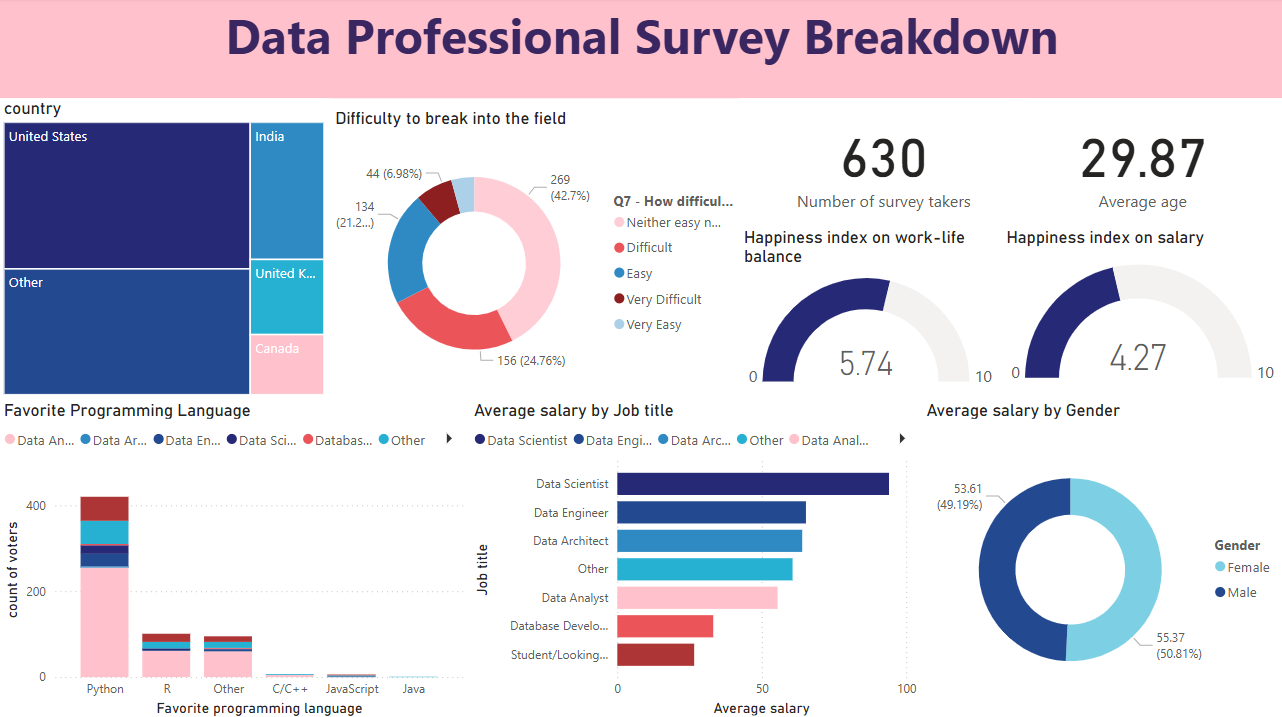

Layout of this report page (visuals, bound fields, positions):
{"tool":"powerbi","page":{"name":"Page 1","canvas":[1280,720],"ordinal":0},"visuals":[{"type":"textbox","box":[0,0,1280,101],"z":0},{"type":"card","fields":{"Values":["Count(Data Professional Survey.Unique ID)"]},"box":[736.3,100.9,288.5,127.4],"z":1000},{"type":"card","fields":{"Values":["Avg(Data Professional Survey.Q10 - Current Age)"]},"box":[998.2,100.9,281.4,127.4],"z":2000},{"type":"barChart","title":"Average salary by Job title","fields":{"Y":["Avg(Data Professional Survey.Average salary)"],"Category":["Data Professional Survey.Q1 - Which Title Best Fits your Current Role?.1"],"Series":["Data Professional Survey.Q1 - Which Title Best Fits your Current Role?.1"]},"box":[467.7,400.6,450.3,319.7],"z":3000},{"type":"columnChart","title":"Favorite Programming Language","fields":{"Category":["Data Professional Survey.Q5 - Favorite Programming Language.1.1"],"Y":["CountNonNull(Data Professional Survey.Unique ID)"],"Series":["Data Professional Survey.Q1 - Which Title Best Fits your Current Role?.1"]},"box":[0,400.7,467.3,320],"z":4000},{"type":"treemap","title":"country ","fields":{"Group":["Data Professional Survey.Q11 - Which Country do you live in?.1"],"Values":["CountNonNull(Data Professional Survey.Q11 - Which Country do you live in?.1)"]},"box":[0,100.5,328.5,300.2],"z":5000},{"type":"gauge","title":"Happiness index on work-life balance","fields":{"Y":["Avg(Data Professional Survey.Q6 - How Happy are you in your Current Position with the following? (Work/Life Balance))"],"MinValue":["Min(Data Professional Survey.Q6 - How Happy are you in your Current Position with the following? (Work/Life Balance))1"],"MaxValue":["Max(Data Professional Survey.Q6 - How Happy are you in your Current Position with the following? (Work/Life Balance))2"]},"box":[736.3,228.3,262,171.7],"z":6000},{"type":"gauge","title":"Happiness index on salary","fields":{"Y":["Avg(Data Professional Survey.Q6 - How Happy are you in your Current Position with the following? (Salary))"],"MinValue":["Min(Data Professional Survey.Q6 - How Happy are you in your Current Position with the following? (Salary))"],"MaxValue":["Max(Data Professional Survey.Q6 - How Happy are you in your Current Position with the following? (Salary))"]},"box":[998.2,228.3,281.4,173.5],"z":7000},{"type":"donutChart","title":"Average salary by Gender","fields":{"Category":["Data Professional Survey.Q9 - Male/Female?"],"Y":["Avg(Data Professional Survey.Average salary)"]},"box":[917.5,400.7,362.5,320],"z":8000},{"type":"donutChart","title":"Difficulty to break into the field","fields":{"Category":["Data Professional Survey.Q7 - How difficult was it for you to break into Data?"],"Y":["CountNonNull(Data Professional Survey.Q7 - How difficult was it for you to break into Data?)"]},"box":[329.6,110.7,406.8,289.8],"z":9000}]}

Visuals, with their boxes in screenshot pixels (x1, y1, x2, y2), scaled from the page's 1280x720 canvas onto the 1282x717 screenshot:
textbox: [0,0,1281,101]
card - Count(Data Professional Survey.Unique ID): [737,100,1026,227]
card - Avg(Data Professional Survey.Q10 - Current Age): [1000,100,1281,227]
"Average salary by Job title" barChart: [468,399,919,716]
"Favorite Programming Language" columnChart: [0,399,468,716]
"country " treemap: [0,100,329,399]
"Happiness index on work-life balance" gauge: [737,227,1000,398]
"Happiness index on salary" gauge: [1000,227,1281,400]
"Average salary by Gender" donutChart: [919,399,1281,716]
"Difficulty to break into the field" donutChart: [330,110,738,399]
